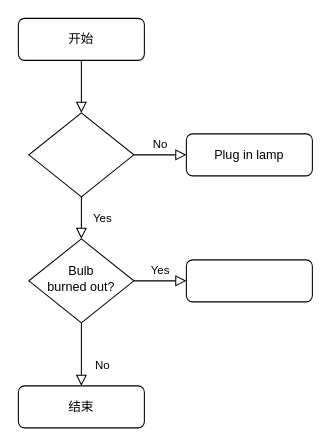
Image size: 331x446. Some labels were removed from this diagram. Each missing label, with the centre of its shape:
Lamp plugged in?: (x=81, y=154)
Replace Bulb: (x=248, y=280)
